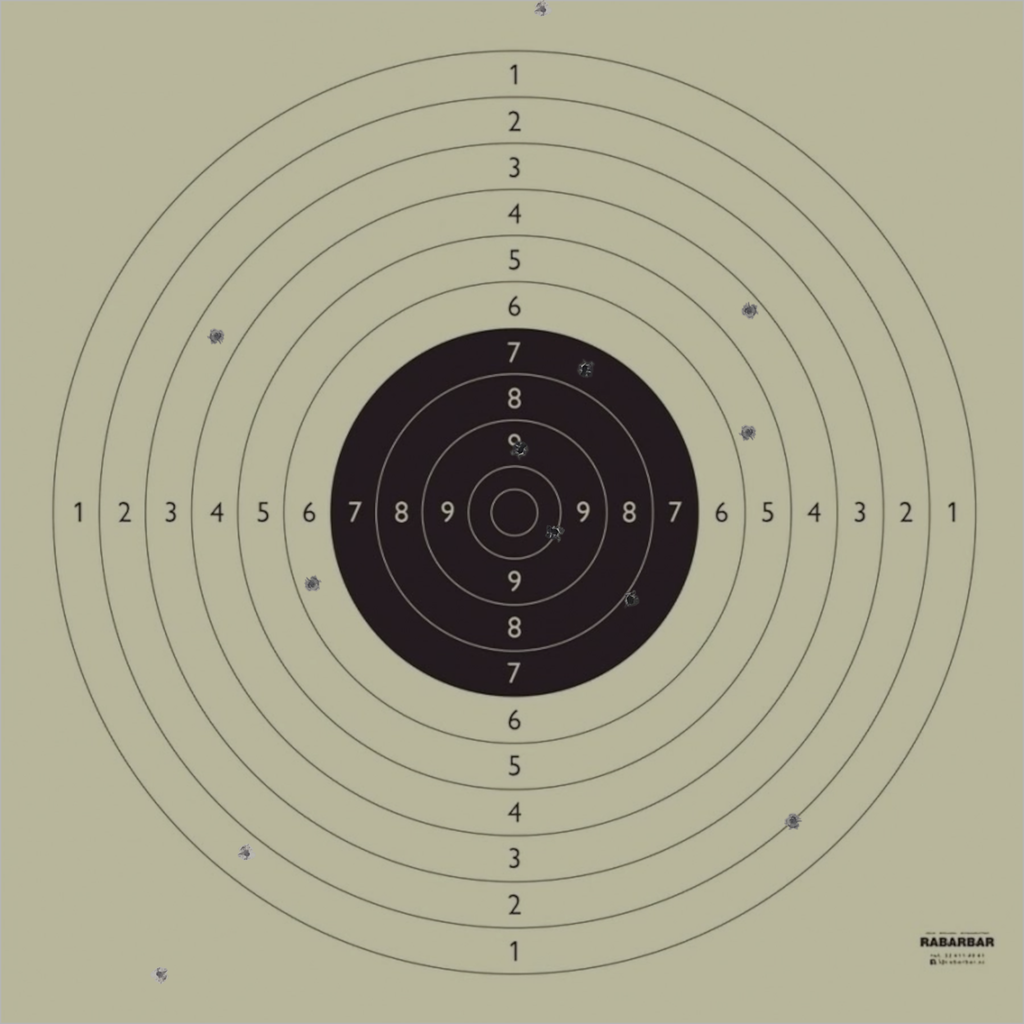0 punktow: (151, 965, 169, 984)
1 punkt: (237, 844, 256, 862)
10 punktow: (545, 523, 564, 541)
2 punkty: (784, 812, 802, 830)
3 punkty: (208, 327, 226, 345)
4 punkty: (740, 301, 758, 320)
5 punktow: (740, 423, 758, 442)
6 punktow: (303, 575, 321, 593)
7 punktow: (576, 359, 594, 378)
8 punktow: (621, 590, 640, 609)
9 punktow: (511, 441, 529, 460)
